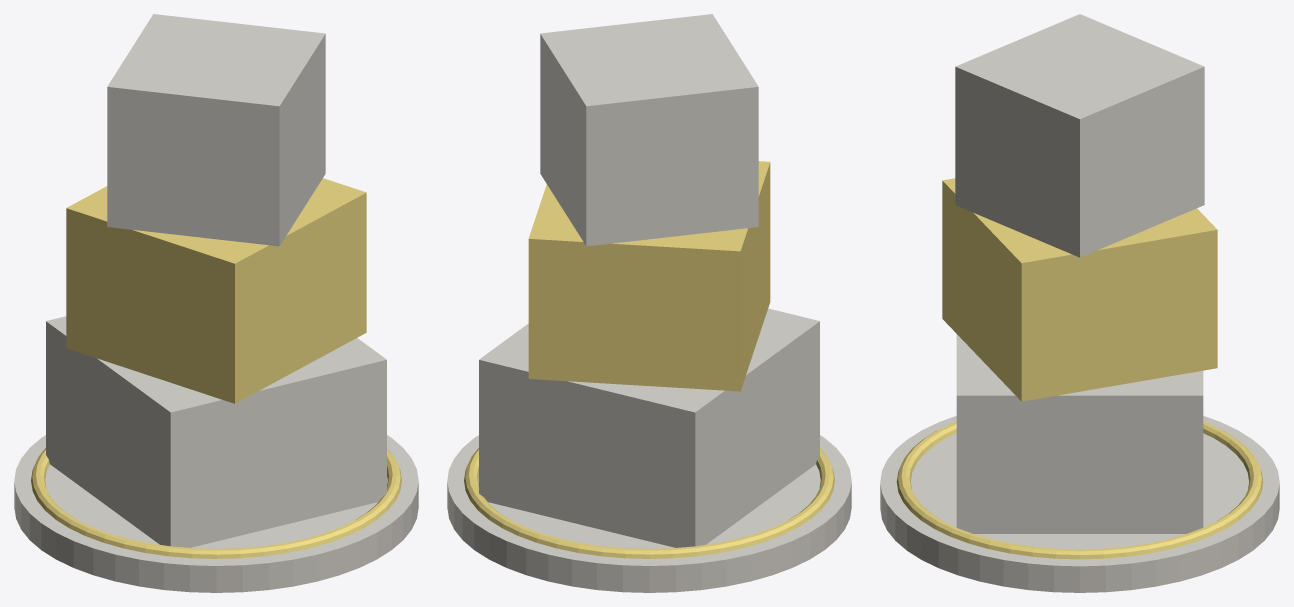
Rendered from ArteModerno_Torre.fbx.
3 renders of one model, left to right at view 1: azimuth 30°, elevation 25°; view 2: azimuth 150°, elevation 25°; view 3: azimuth 270°, elevation 25°, orthographic.
Visible parts, largest first — view 1: ArteModerno_Torre; view 2: ArteModerno_Torre; view 3: ArteModerno_Torre.
Part boxes in pixels (x1,y1,x2,y2): ArteModerno_Torre: (14, 14, 418, 592); ArteModerno_Torre: (447, 14, 851, 592); ArteModerno_Torre: (880, 14, 1279, 592).
Size of the model in its own units: 0.68 by 0.83 by 0.68.
